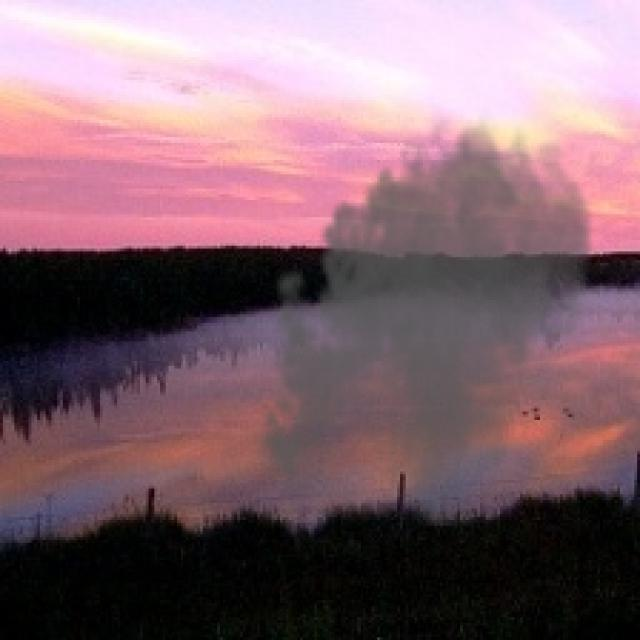smoke: (251, 106, 600, 526)
